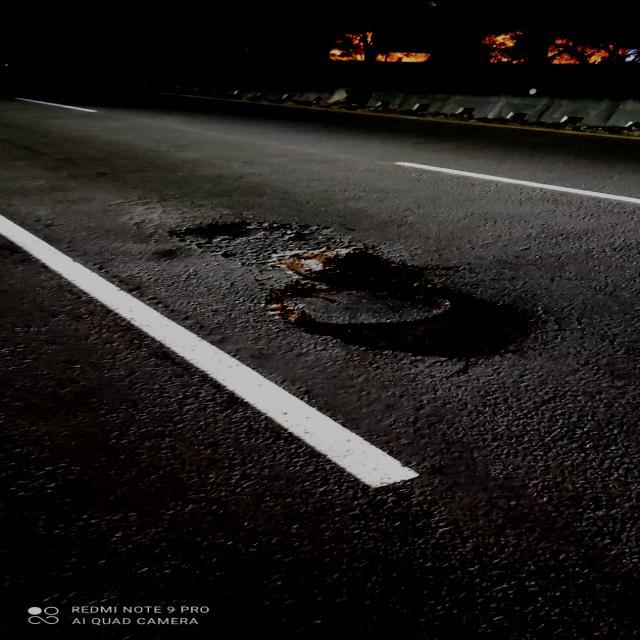Buraco: (259, 241, 556, 366), (162, 216, 336, 246)
